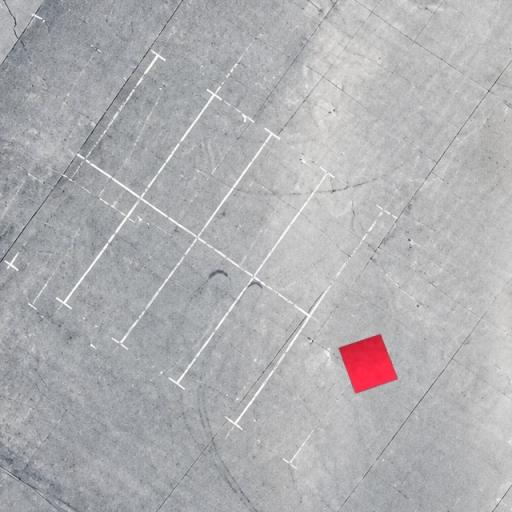RED_SQUARE: (338, 332, 398, 394)
